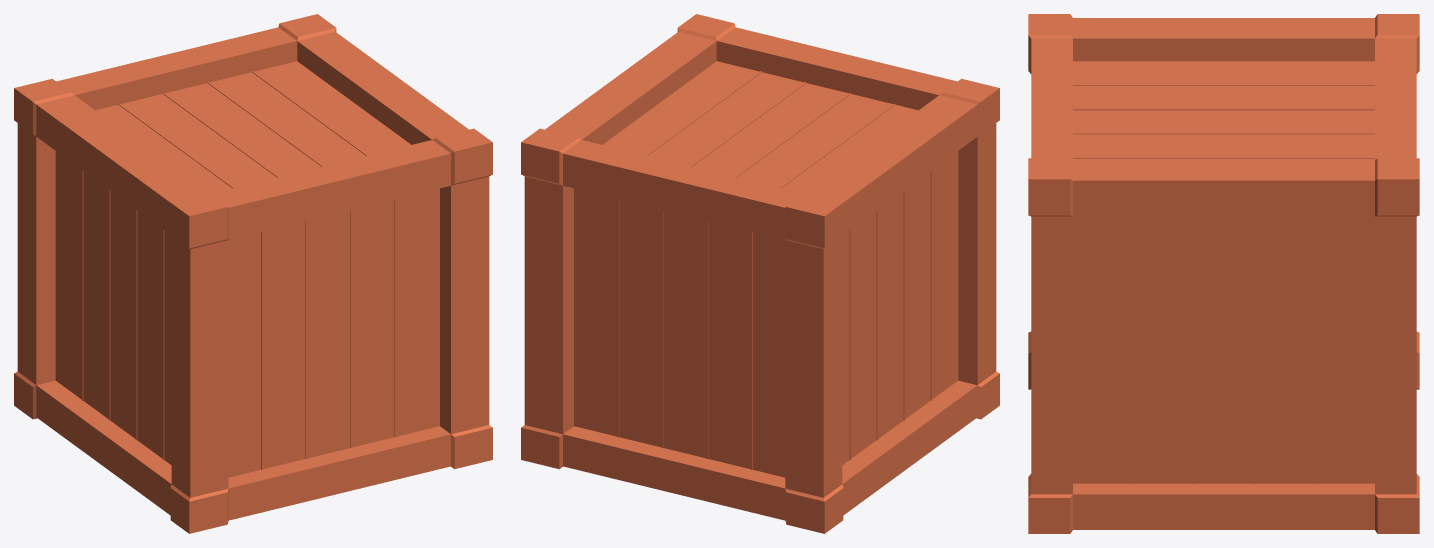
File: Osmond_140810200022_WoodBox (1).fbx
The picture shows the model from 3 angles, left to right: view 1: azimuth 30°, elevation 25°; view 2: azimuth 150°, elevation 25°; view 3: azimuth 270°, elevation 25°; orthographic projection. The views are drawn at different scales.
Parts seen in each view (by area): view 1: Cube, Cube.001; view 2: Cube, Cube.001; view 3: Cube.001, Cube.
Boxes of the visible parts, bbox=[...] form: Cube: bbox=[14, 14, 492, 533]; Cube.001: bbox=[55, 61, 439, 477]; Cube: bbox=[521, 14, 999, 533]; Cube.001: bbox=[574, 61, 958, 477]; Cube.001: bbox=[1073, 61, 1374, 483]; Cube: bbox=[1028, 14, 1419, 533].
Bounding box in the file's own units: 203 × 203 × 203.
